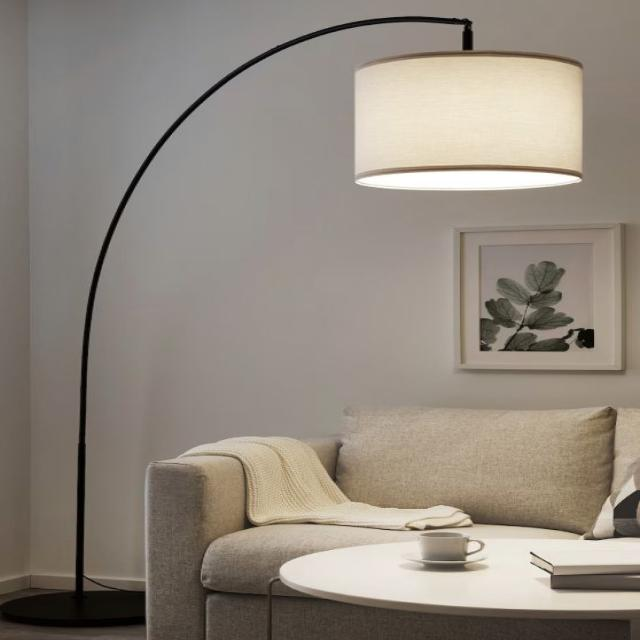obstacle: (142, 404, 638, 638), (276, 537, 639, 638)
